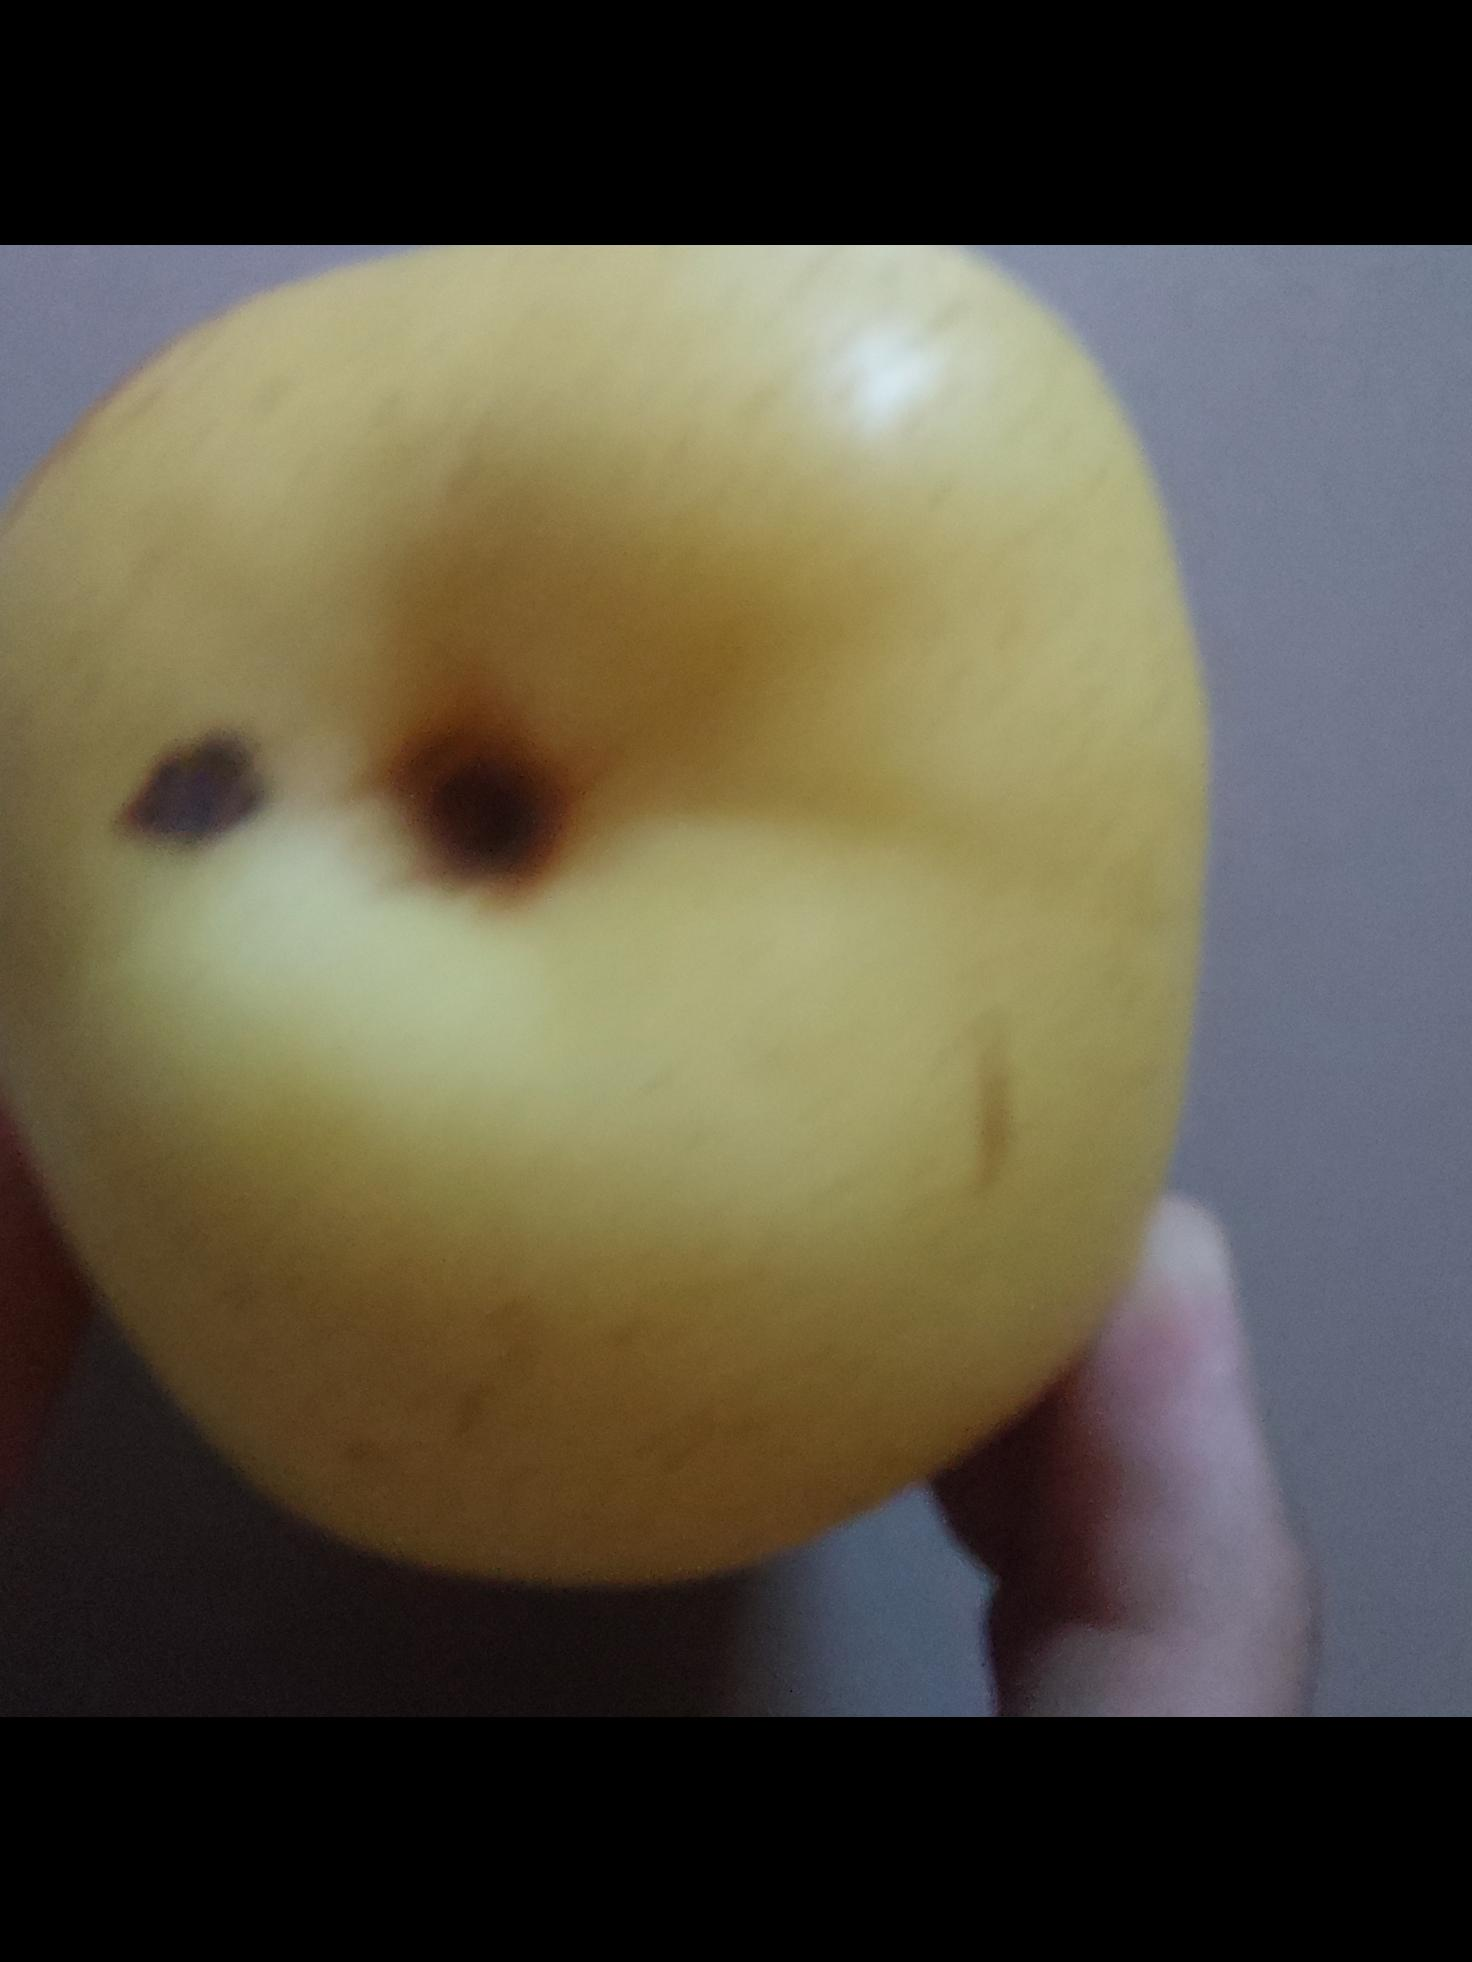Good Pear: (0, 244, 1211, 1586)
